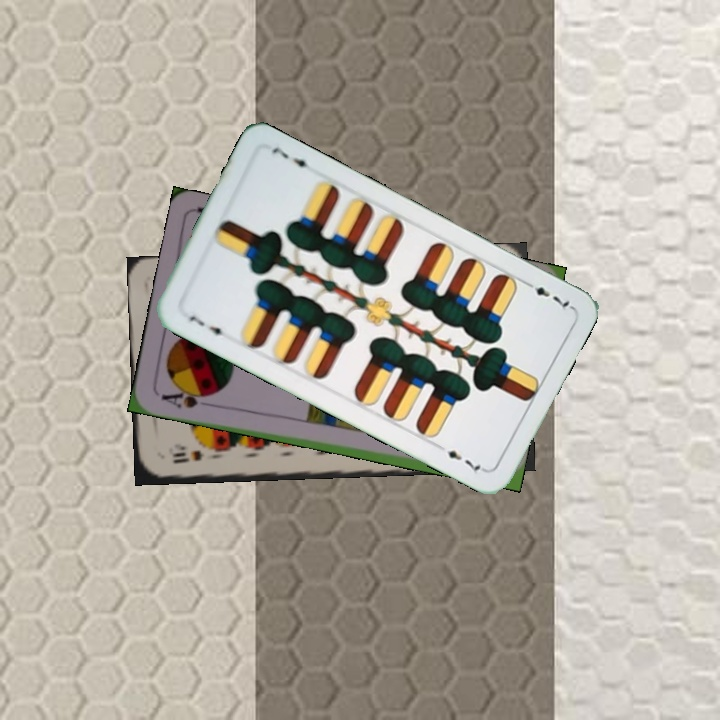E7: (519, 276, 575, 312), (184, 311, 230, 342)
S10: (169, 447, 207, 466)
SA: (157, 385, 215, 411)
